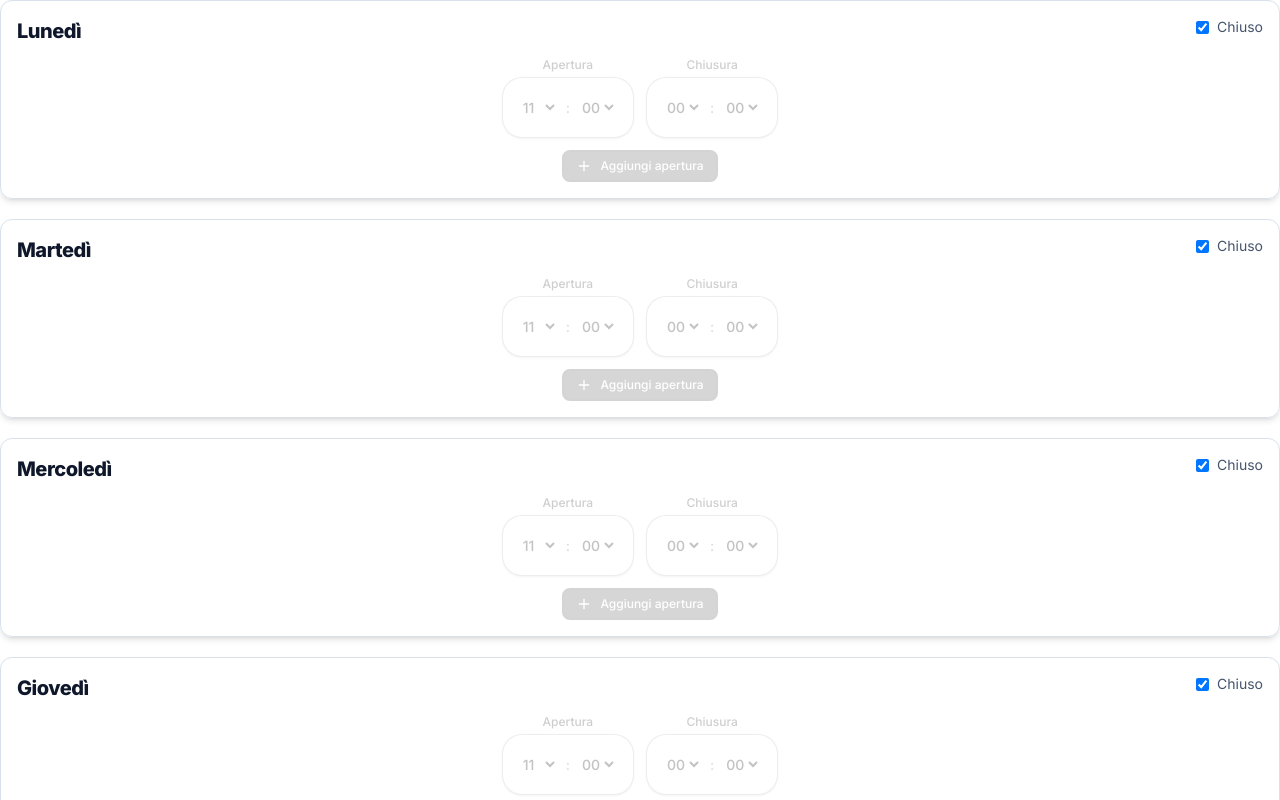
settings-business-hours-editor M4 — FIX 2 default orari › rompi: sovrappongo manualmente pranzo/cena → banner overlap appare (validazione non rotta dal nuovo default)
Click the checkbox labelled "Chiuso" in the row of "Lunedì" at (1202, 27), box 1196,20 -> 1209,34
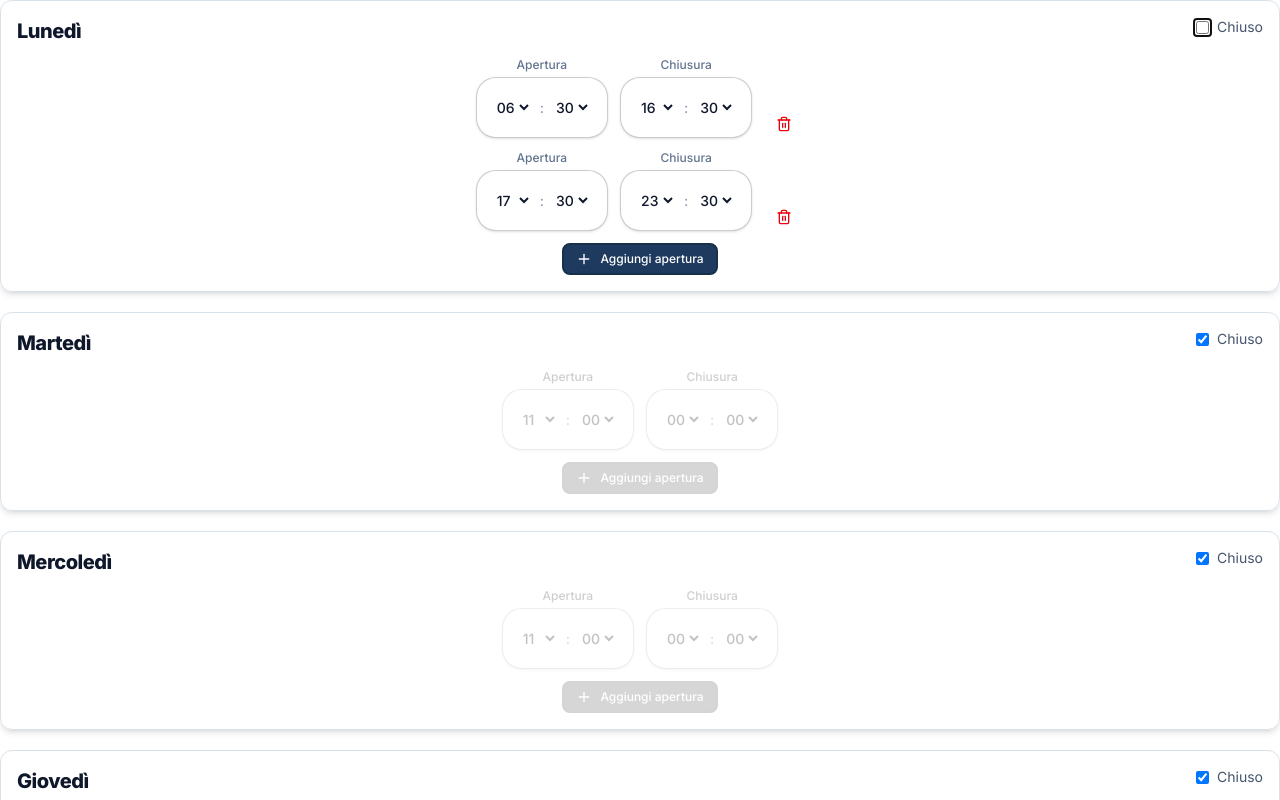
# Sovrappongo manualmente la chiusura pranzo (16:30→18:00) con l'apertura cena (17:30).
Select "18" in the dropdown with id "monday-close-0" at (656, 108), box 637,90 -> 676,125
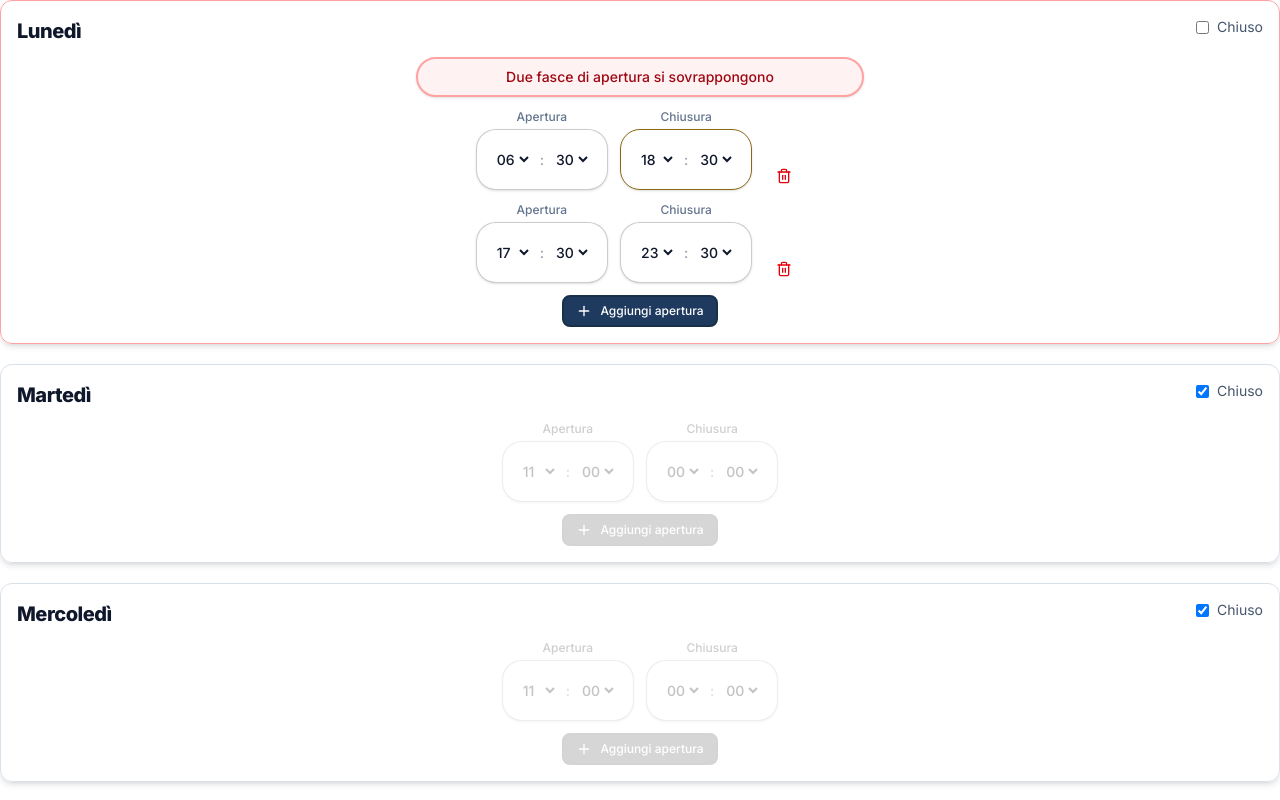
expect the message shows "si sovrappongono": met, box 506,68 -> 774,85
